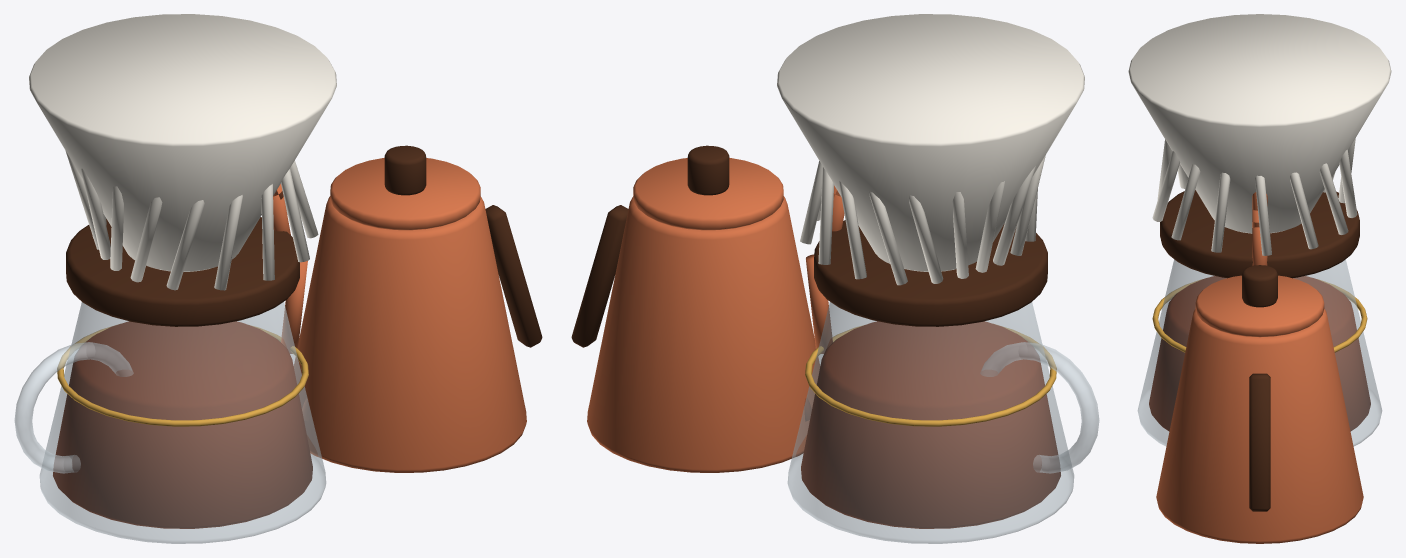
The model's file is kobo-pourover-set.glb.
3 renders of one model, left to right at view 1: azimuth 30°, elevation 25°; view 2: azimuth 150°, elevation 25°; view 3: azimuth 270°, elevation 25°, orthographic. The views are drawn at different scales.
Visible parts, largest first — view 1: part_03_top, part_01_base, part_04_accent, part_02_body, part_05_vessel; view 2: part_03_top, part_01_base, part_04_accent, part_02_body, part_05_vessel; view 3: part_03_top, part_04_accent, part_01_base, part_02_body, part_05_vessel.
Part boxes in pixels (<box>): part_03_top: <box>29,14,336,290</box>; part_01_base: <box>14,302,326,543</box>; part_04_accent: <box>273,184,542,472</box>; part_02_body: <box>66,217,299,326</box>; part_05_vessel: <box>330,145,480,230</box>; part_03_top: <box>777,14,1084,285</box>; part_01_base: <box>787,302,1099,543</box>; part_04_accent: <box>571,185,844,472</box>; part_02_body: <box>814,220,1047,326</box>; part_05_vessel: <box>633,145,783,230</box>; part_03_top: <box>1128,14,1391,255</box>; part_04_accent: <box>1156,192,1363,543</box>; part_01_base: <box>1137,259,1382,446</box>; part_02_body: <box>1160,190,1359,278</box>; part_05_vessel: <box>1195,265,1324,337</box>.
Size of the model in its own units: 2.16 by 1.61 by 1.11.
